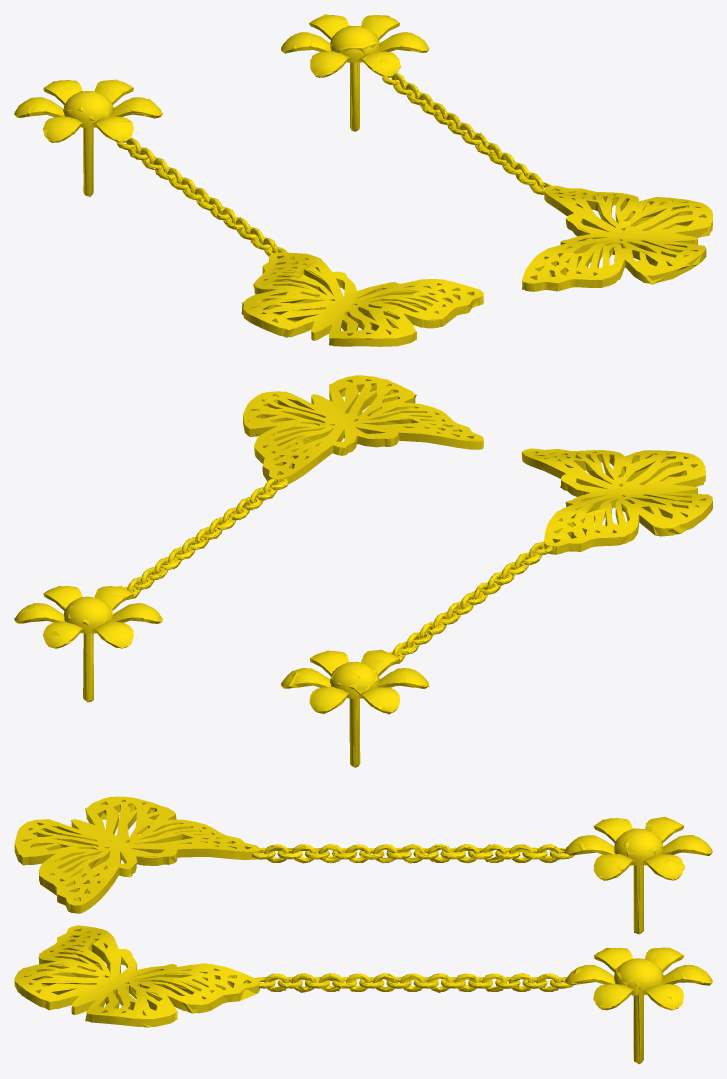
File: GP-SAD0003036.glb
3 renders of one model, top to bottom at view 1: azimuth 30°, elevation 25°; view 2: azimuth 150°, elevation 25°; view 3: azimuth 270°, elevation 25°, orthographic.
Visible parts, largest first — view 1: highPolyMesh, lowPolyMesh; view 2: highPolyMesh, lowPolyMesh; view 3: highPolyMesh, lowPolyMesh.
Part boxes in pixels (left/top/right/bottom): highPolyMesh: left=14, top=15, right=712, bottom=346; lowPolyMesh: left=14, top=14, right=712, bottom=346; highPolyMesh: left=14, top=375, right=712, bottom=767; lowPolyMesh: left=14, top=375, right=712, bottom=766; highPolyMesh: left=14, top=796, right=712, bottom=1063; lowPolyMesh: left=14, top=796, right=712, bottom=1064.
Bounding box in the file's own units: 0.0412 × 0.00893 × 0.0551.
